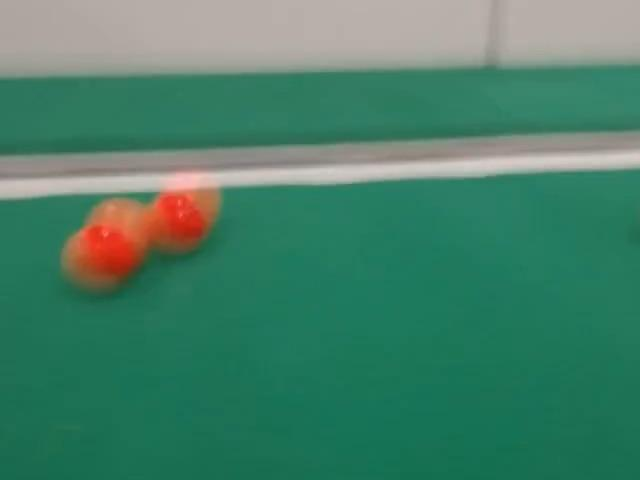Ball: (61, 199, 149, 290), (145, 173, 221, 252)
